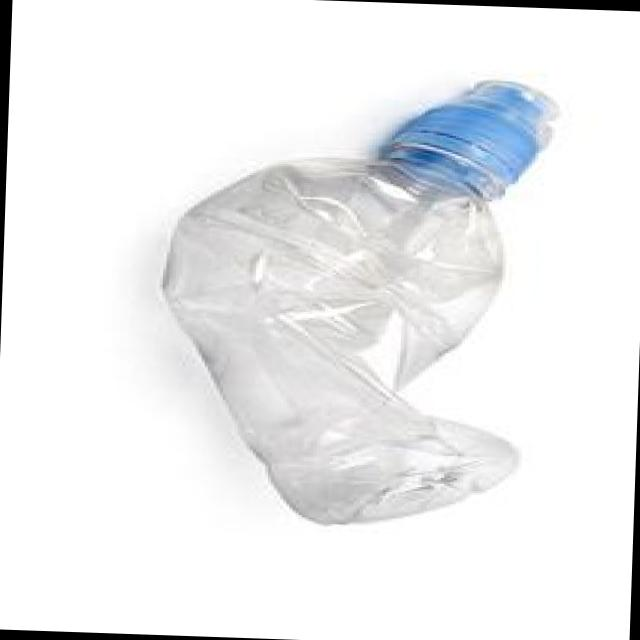plastic_bottle: (125, 66, 582, 548)
